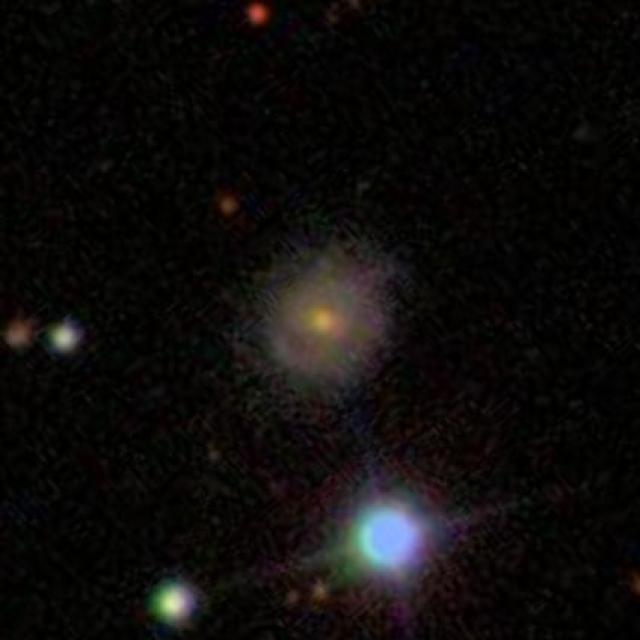galaxy: (234, 235, 416, 420), (141, 574, 205, 632), (45, 316, 87, 359), (4, 317, 41, 354), (215, 189, 239, 225), (244, 1, 276, 28), (282, 585, 303, 610), (311, 580, 333, 602)
star: (225, 414, 601, 640)
